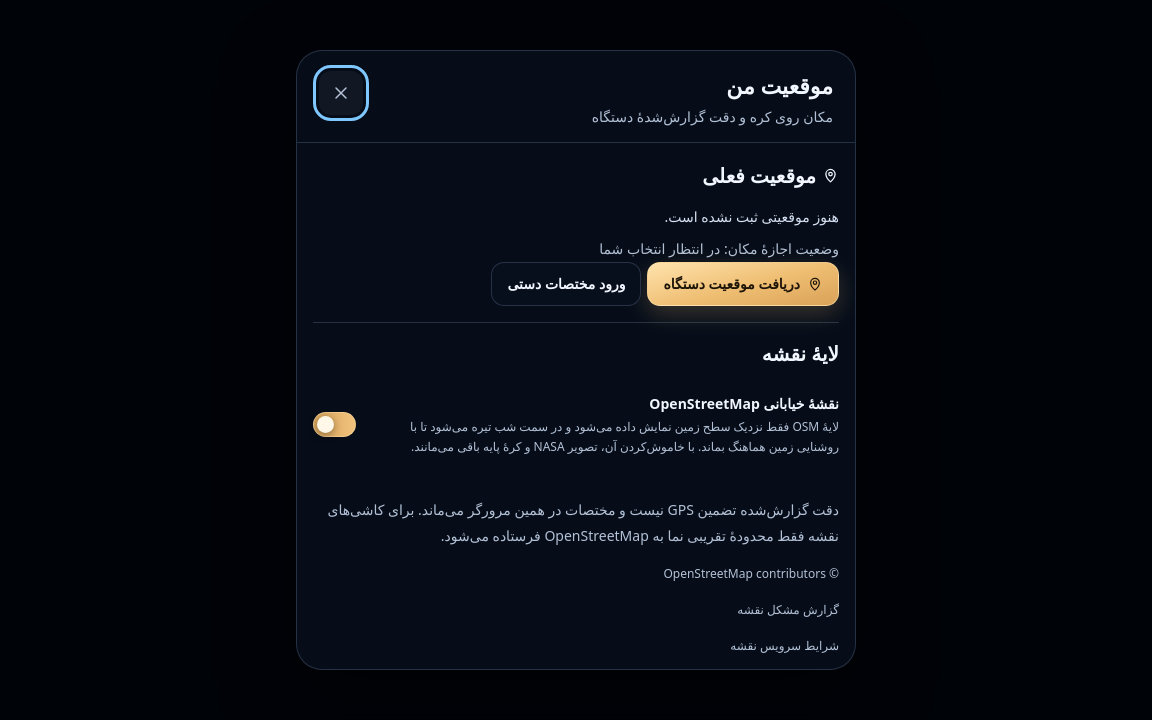
Scenario: EarthLocationSheet › keeps a coarse fix open and requires an explicit focus action
Click the button "دریافت موقعیت دستگاه".
click(743, 284)  # box [647,262,839,306]
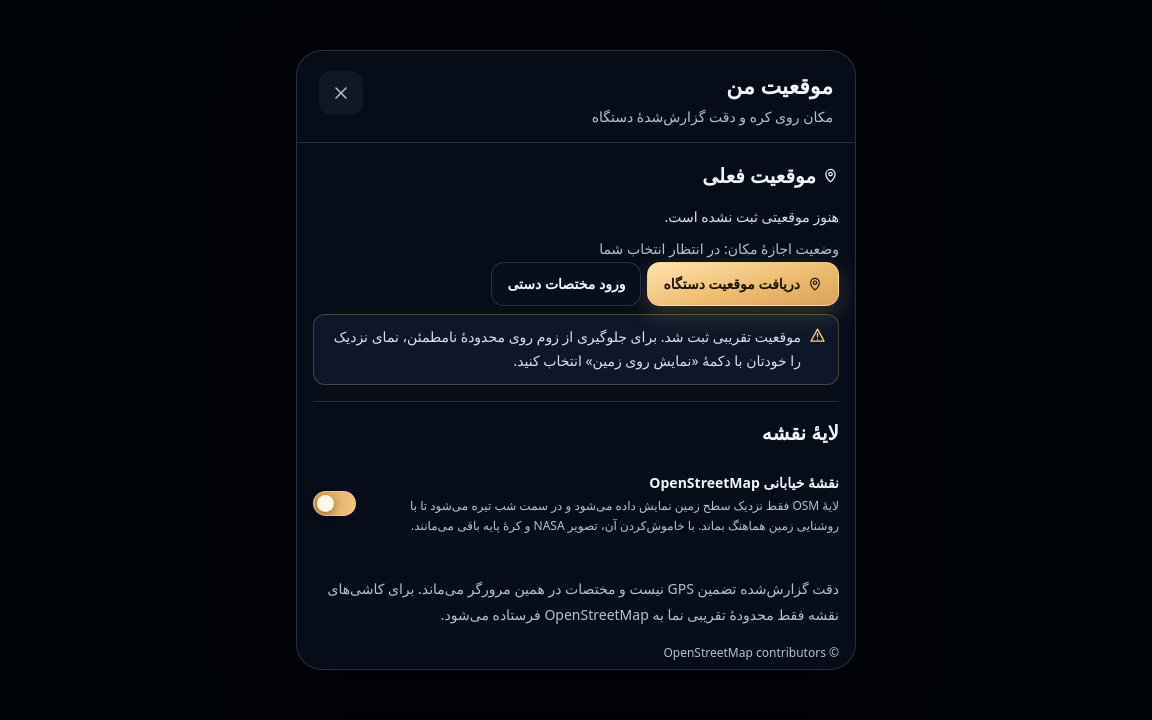
Result: the text "زوم روی محدودهٔ نامطمئن" is shown at [334,327,801,370]
